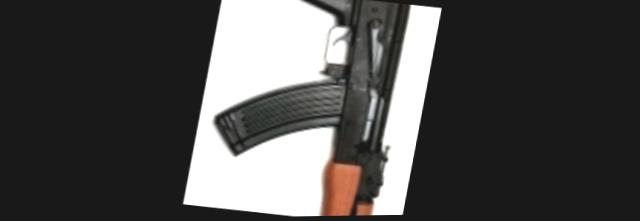rifle: (184, 0, 426, 219)
